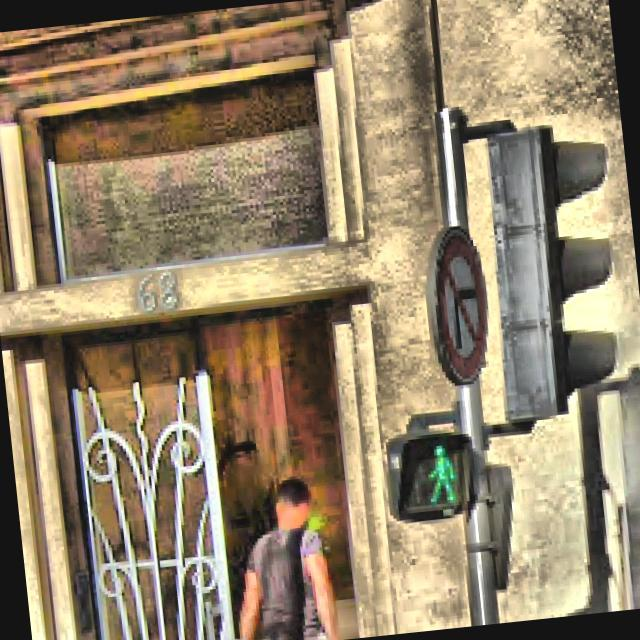green_light: (417, 435, 459, 508)
